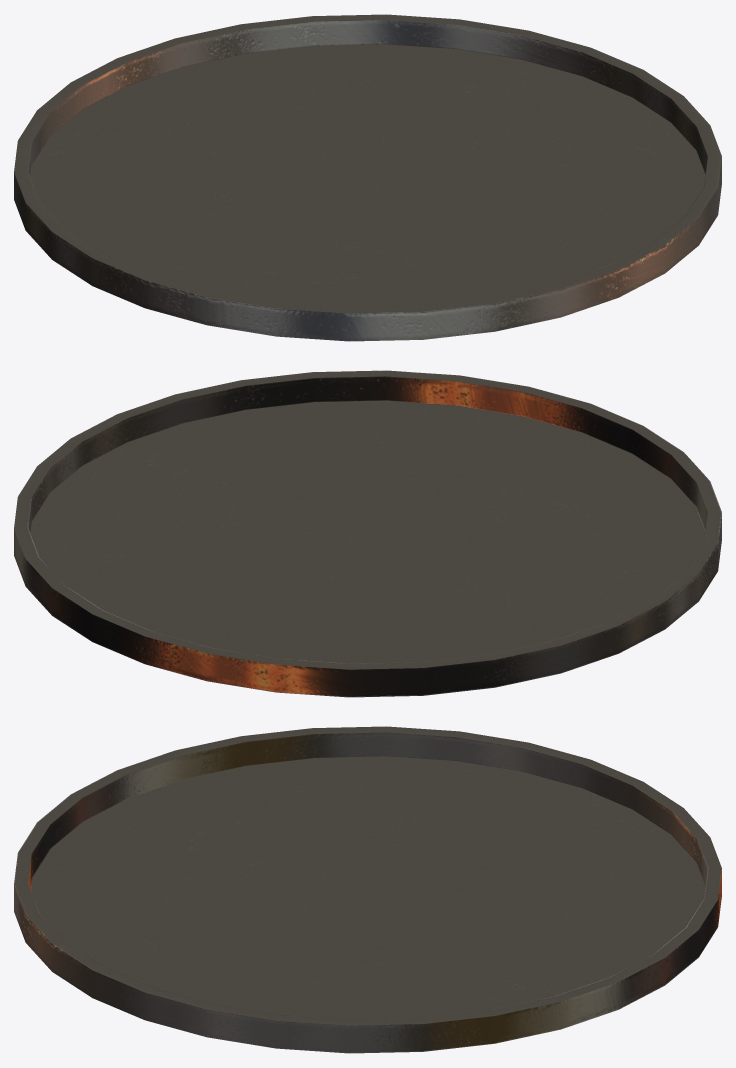
Rendered from NNJ0410019.fbx.
The picture shows the model from 3 angles, top to bottom: view 1: azimuth 30°, elevation 25°; view 2: azimuth 150°, elevation 25°; view 3: azimuth 270°, elevation 25°; orthographic projection.
Parts seen in each view (by area): view 1: smNNJ0410019; view 2: smNNJ0410019; view 3: smNNJ0410019.
Boxes of the visible parts, x1,y1,x2,y2 form: smNNJ0410019: (14, 14, 721, 341); smNNJ0410019: (14, 370, 721, 697); smNNJ0410019: (14, 726, 721, 1053).
Bounding box in the file's own units: 34.75 × 1.51 × 34.75.
1 material, 1 textured.
